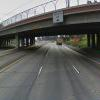Bridge: (2, 6, 99, 44)
